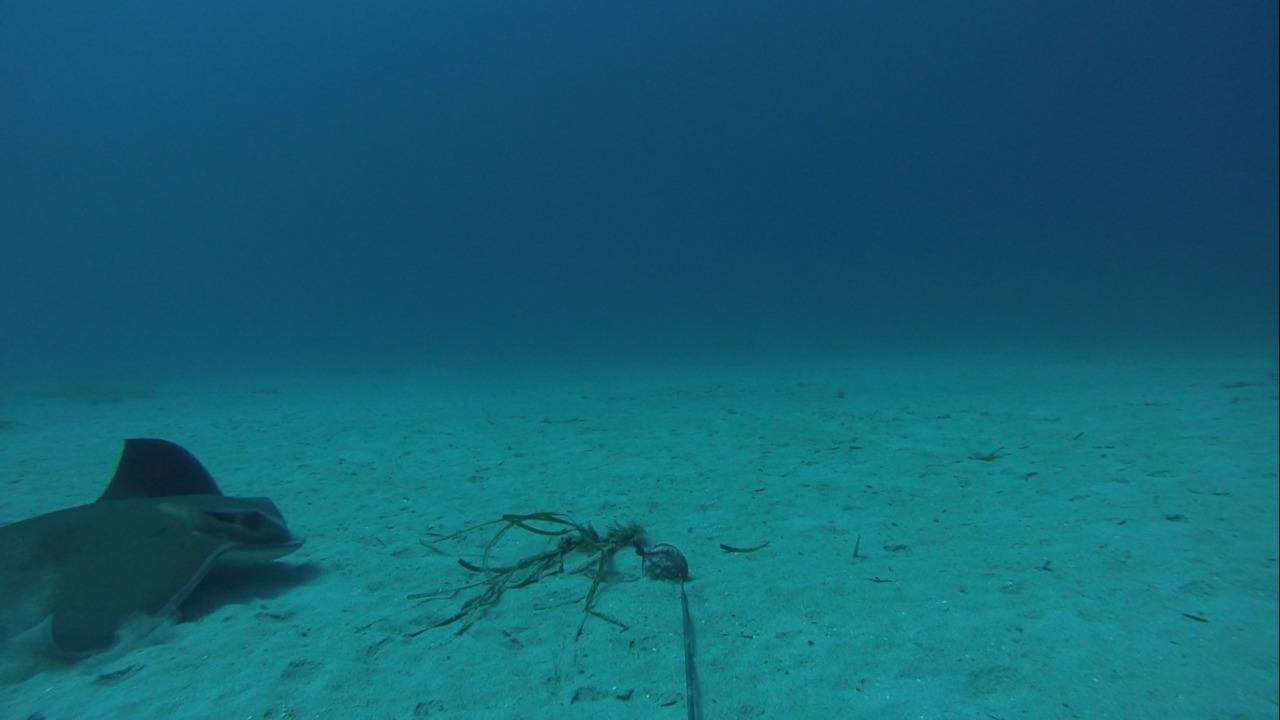myliobatis: (6, 433, 309, 673)
